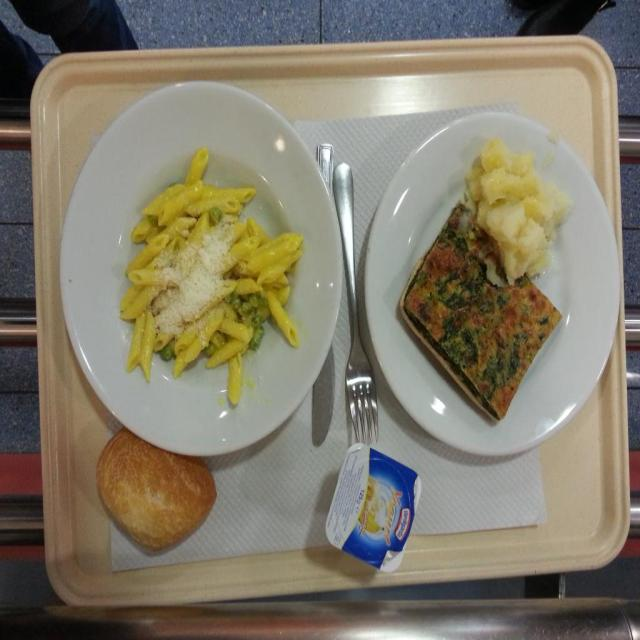plate: (60, 78, 342, 458), (364, 112, 625, 454), (94, 424, 219, 554)
